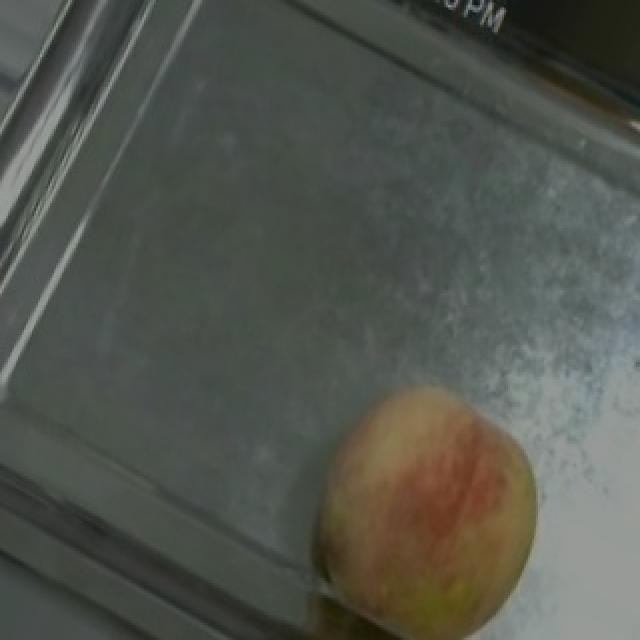Fruit: (268, 342, 574, 640)
